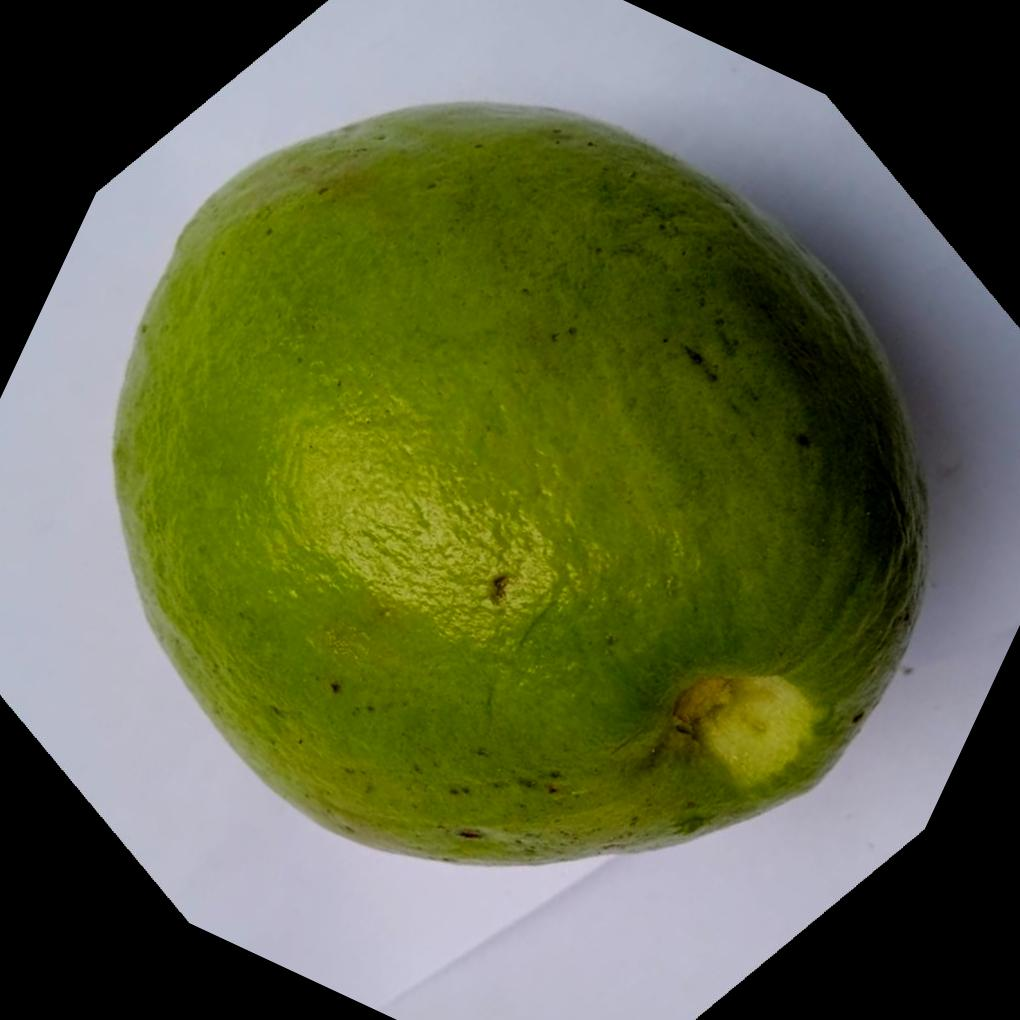FreshGuava: (107, 101, 927, 872)
